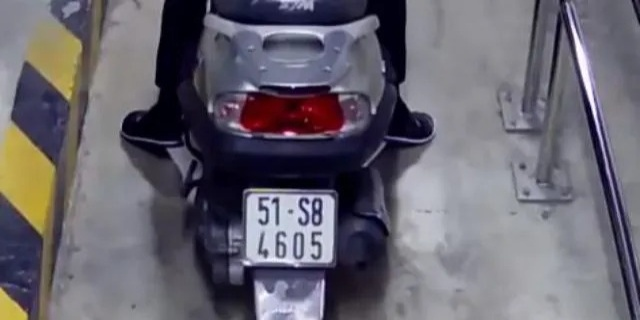bien_so: (241, 186, 338, 268)
